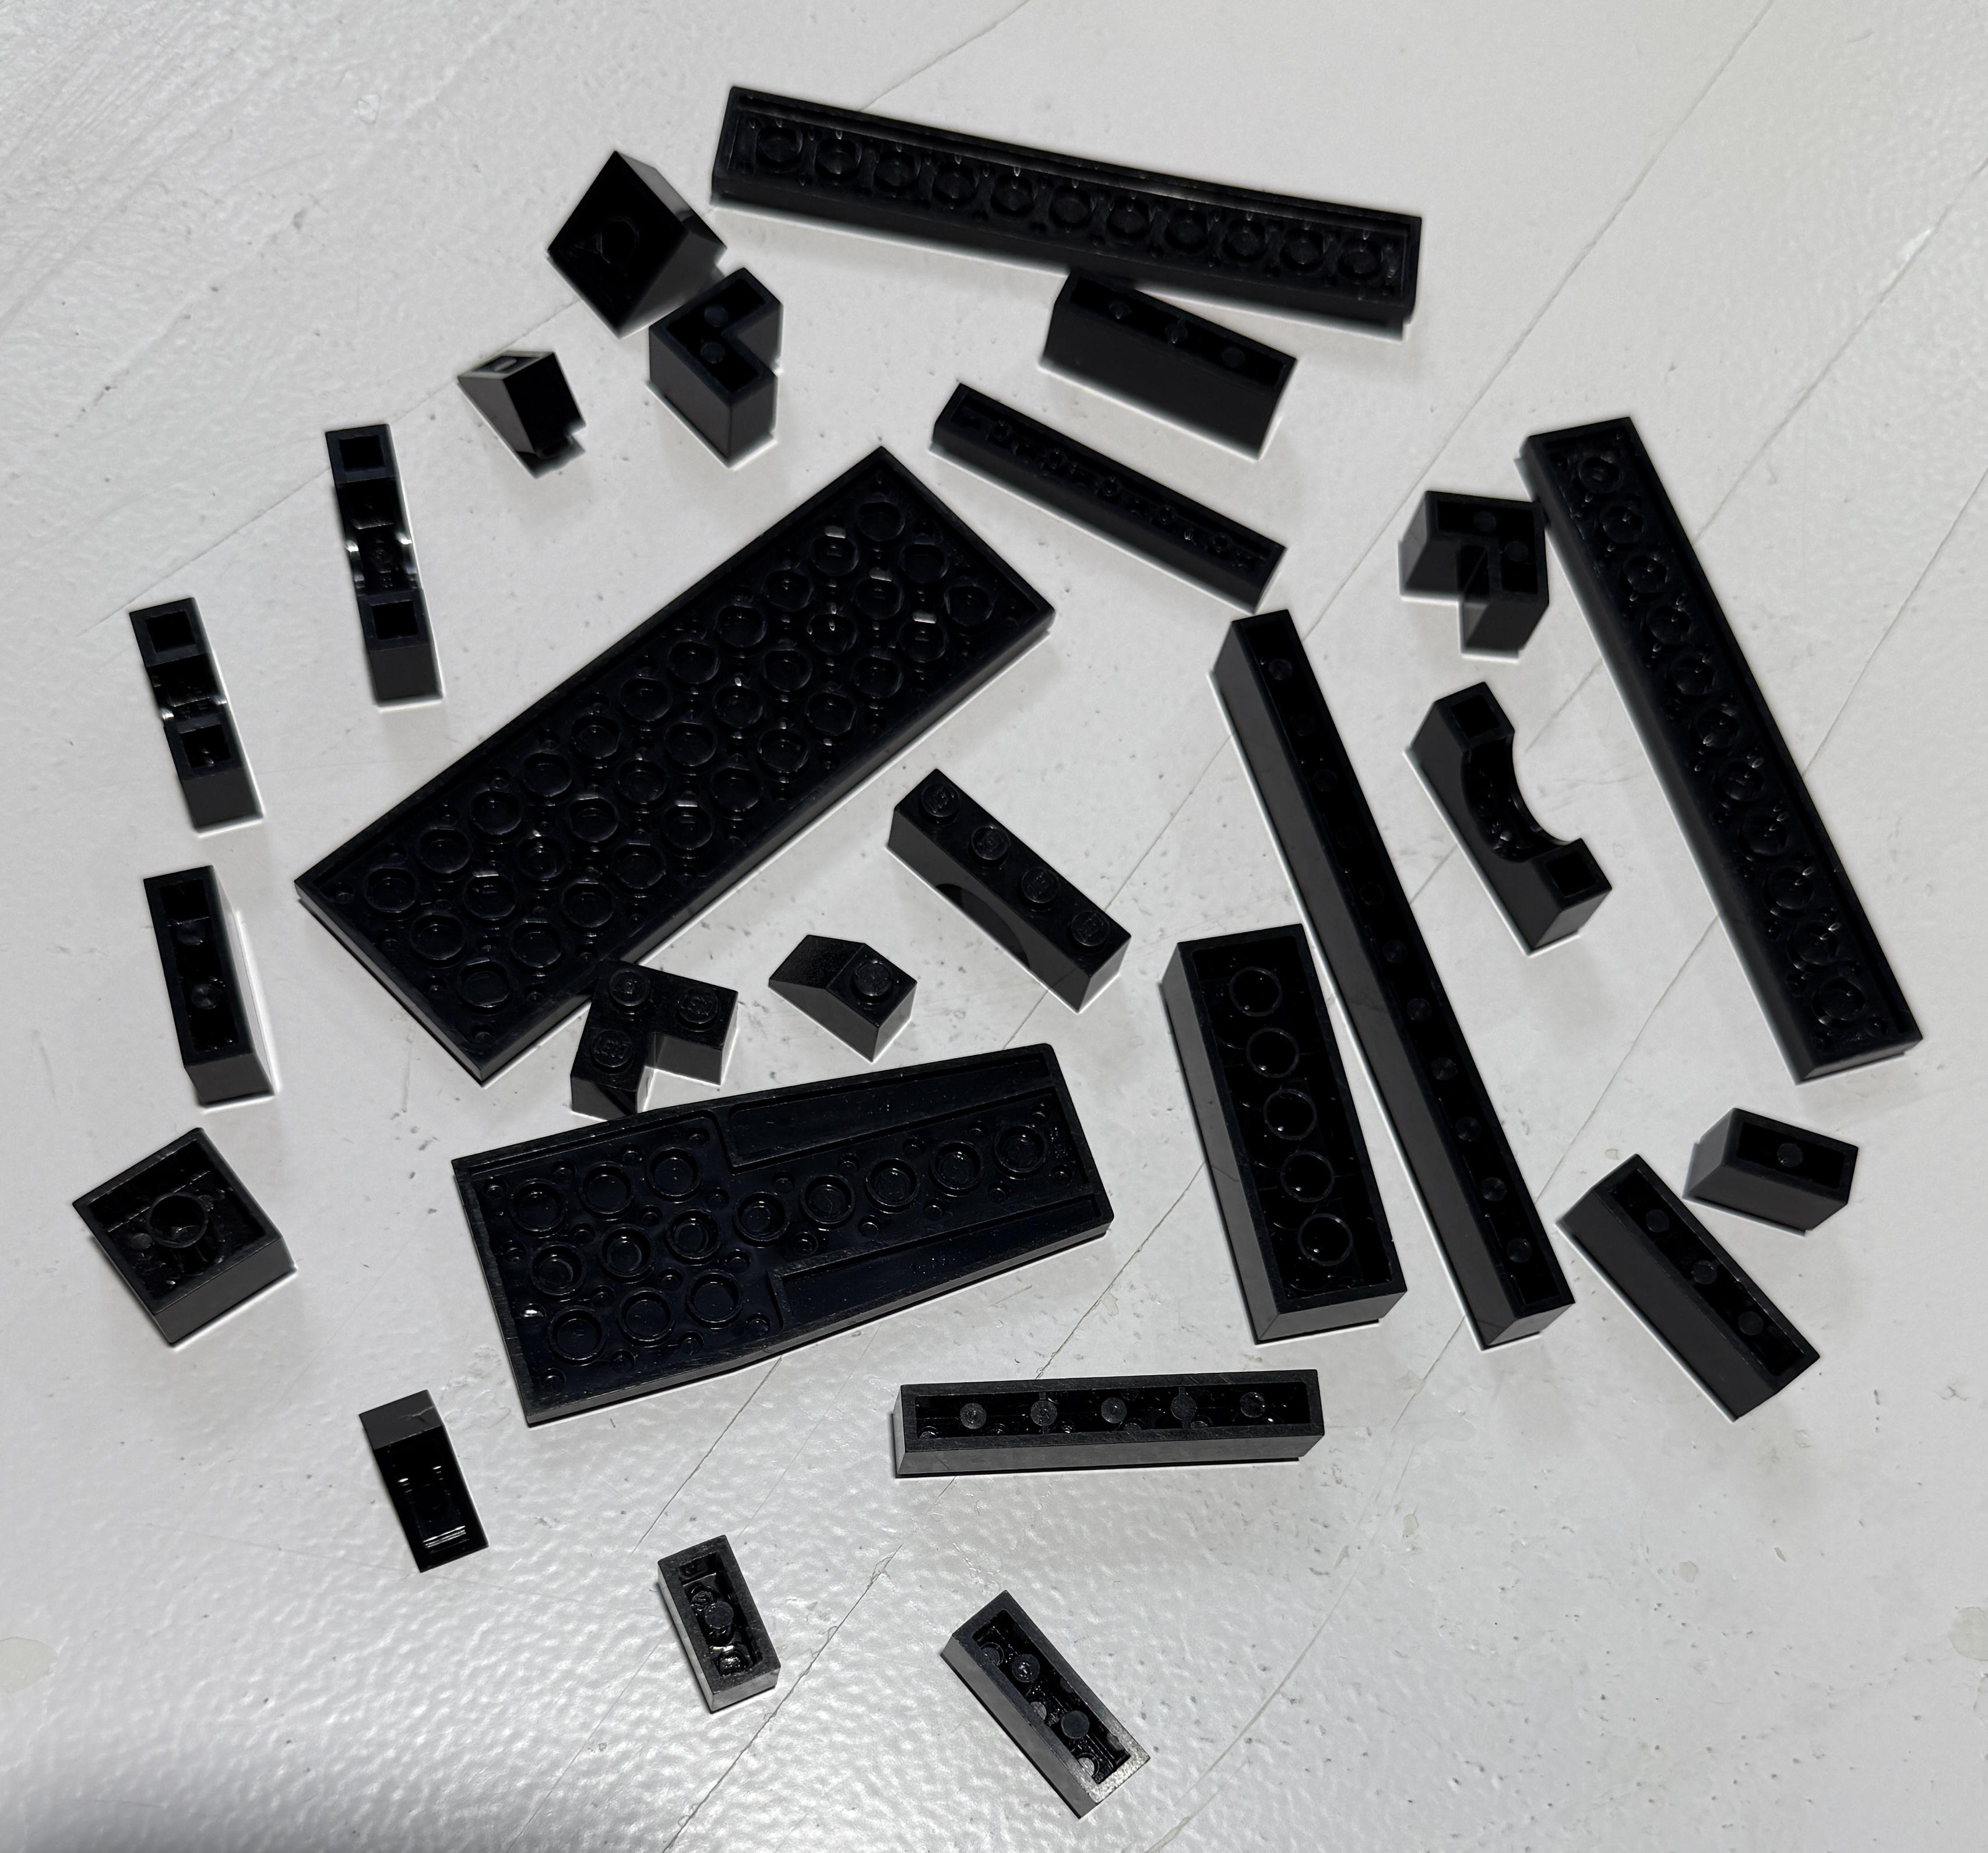brick_1x2: (638, 1513, 817, 1757), (1673, 1080, 1913, 1259)
brick_1x3: (922, 1540, 1204, 1829)
brick_1x4: (1019, 242, 1315, 486)
brick_2x2: (52, 1111, 326, 1374)
